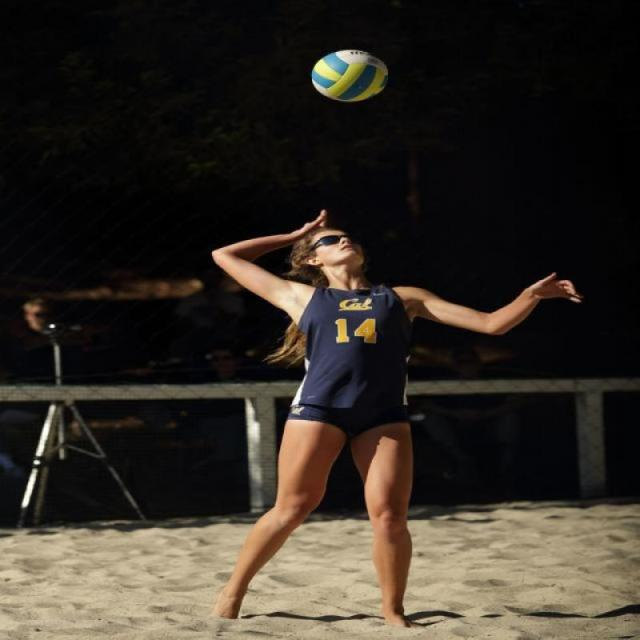volleyball: (309, 47, 391, 104)
